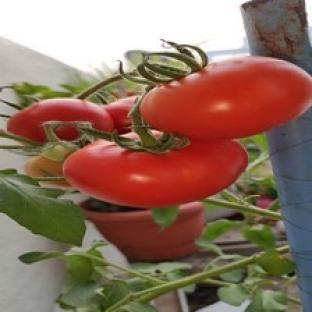Tomato: (141, 56, 311, 139), (63, 140, 247, 208), (7, 98, 114, 142), (24, 155, 69, 186), (104, 97, 137, 133)
